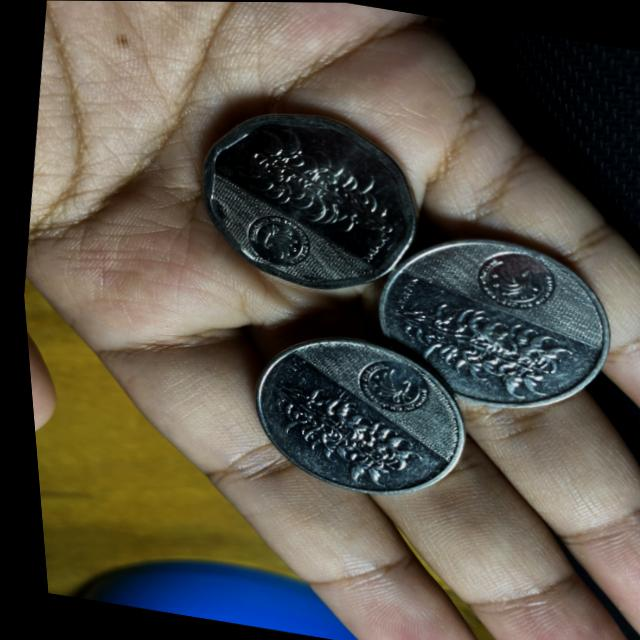5_New_Back: (222, 122, 415, 247), (387, 294, 566, 404), (256, 381, 411, 488)
